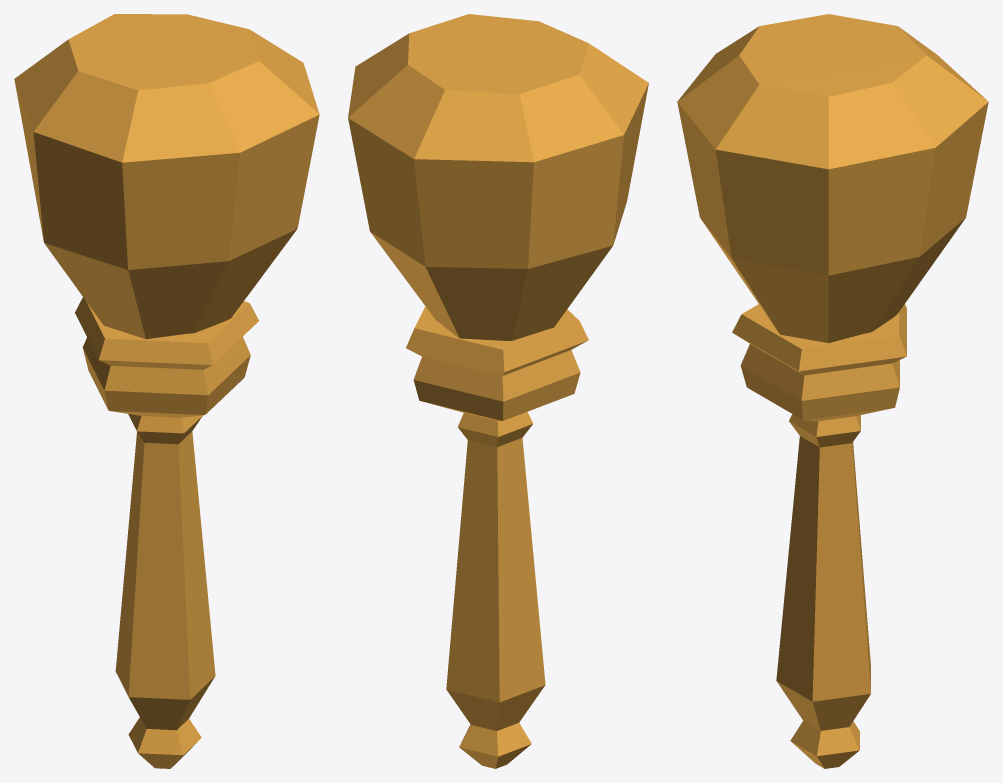
The model's file is SM_Brush_Powder_Victorian.fbx.
3 renders of one model, left to right at view 1: azimuth 30°, elevation 25°; view 2: azimuth 150°, elevation 25°; view 3: azimuth 270°, elevation 25°, orthographic.
Parts seen in each view (by area): view 1: brush-powder-victorian; view 2: brush-powder-victorian; view 3: brush-powder-victorian.
Part boxes in pixels (x1,y1,x2,y2): brush-powder-victorian: (14, 14, 319, 768); brush-powder-victorian: (348, 14, 648, 768); brush-powder-victorian: (677, 14, 988, 768).
Bounding box in the file's own units: 0.0758 × 0.1915 × 0.0763.
